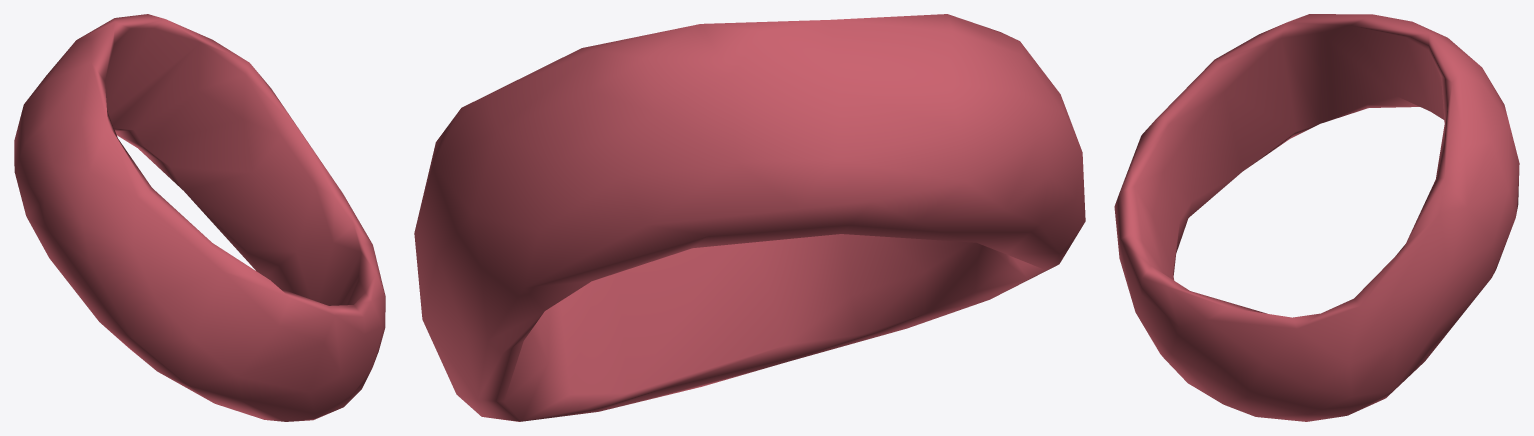
3 views of the same model, side by side, from view 1: azimuth 30°, elevation 25°; view 2: azimuth 150°, elevation 25°; view 3: azimuth 270°, elevation 25° (orthographic). The views are drawn at different scales.
Parts seen in each view (by area): view 1: 右侧总腱环; view 2: 右侧总腱环; view 3: 右侧总腱环.
Part boxes in pixels (x1,y1,x2,y2): 右侧总腱环: (14, 14, 385, 421); 右侧总腱环: (414, 14, 1085, 421); 右侧总腱环: (1114, 14, 1519, 421).
Bounding box in the file's own units: 0.00922 × 0.00861 × 0.00987.
